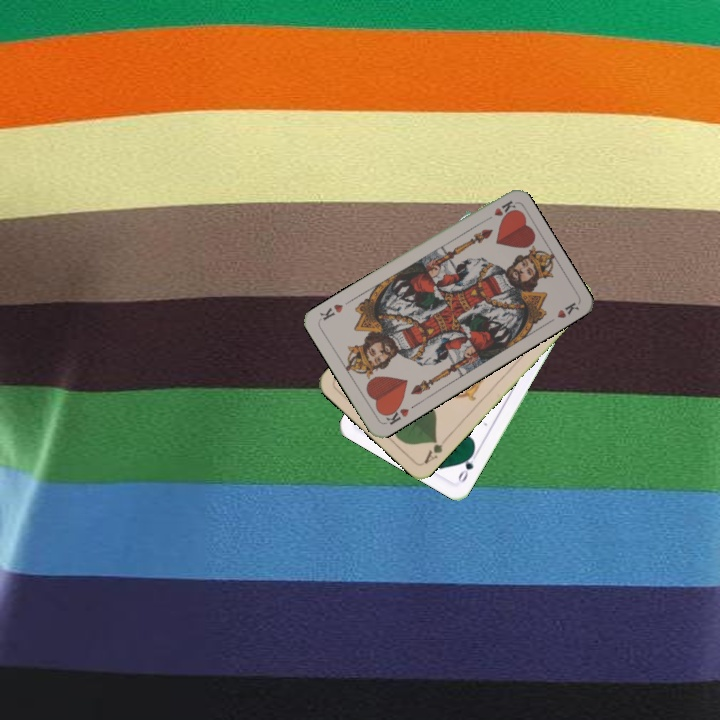GA: (419, 434, 446, 467)
GO: (454, 447, 481, 485)
HK: (479, 196, 517, 225), (379, 400, 412, 427)
